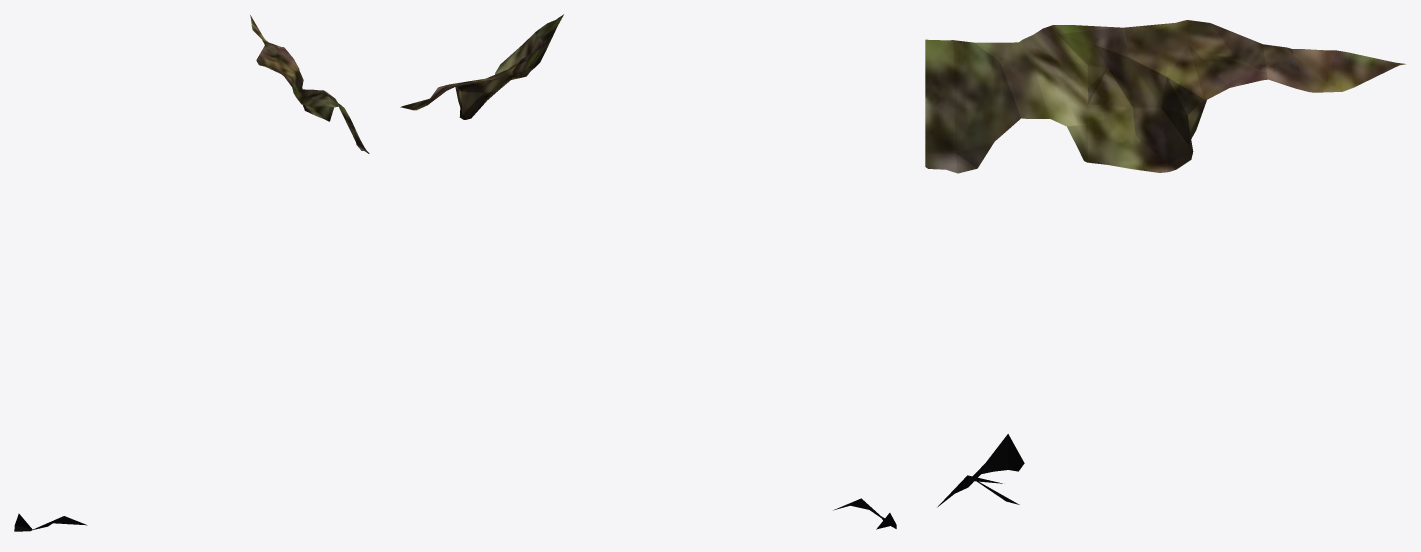
The picture shows the model from 3 angles, left to right: view 1: azimuth 30°, elevation 25°; view 2: azimuth 150°, elevation 25°; view 3: azimuth 270°, elevation 25°; orthographic projection. The views are drawn at different scales.
Bounding box in the file's own units: 0.7994 × 0.8373 × 0.4996.
1 material, 1 textured.
